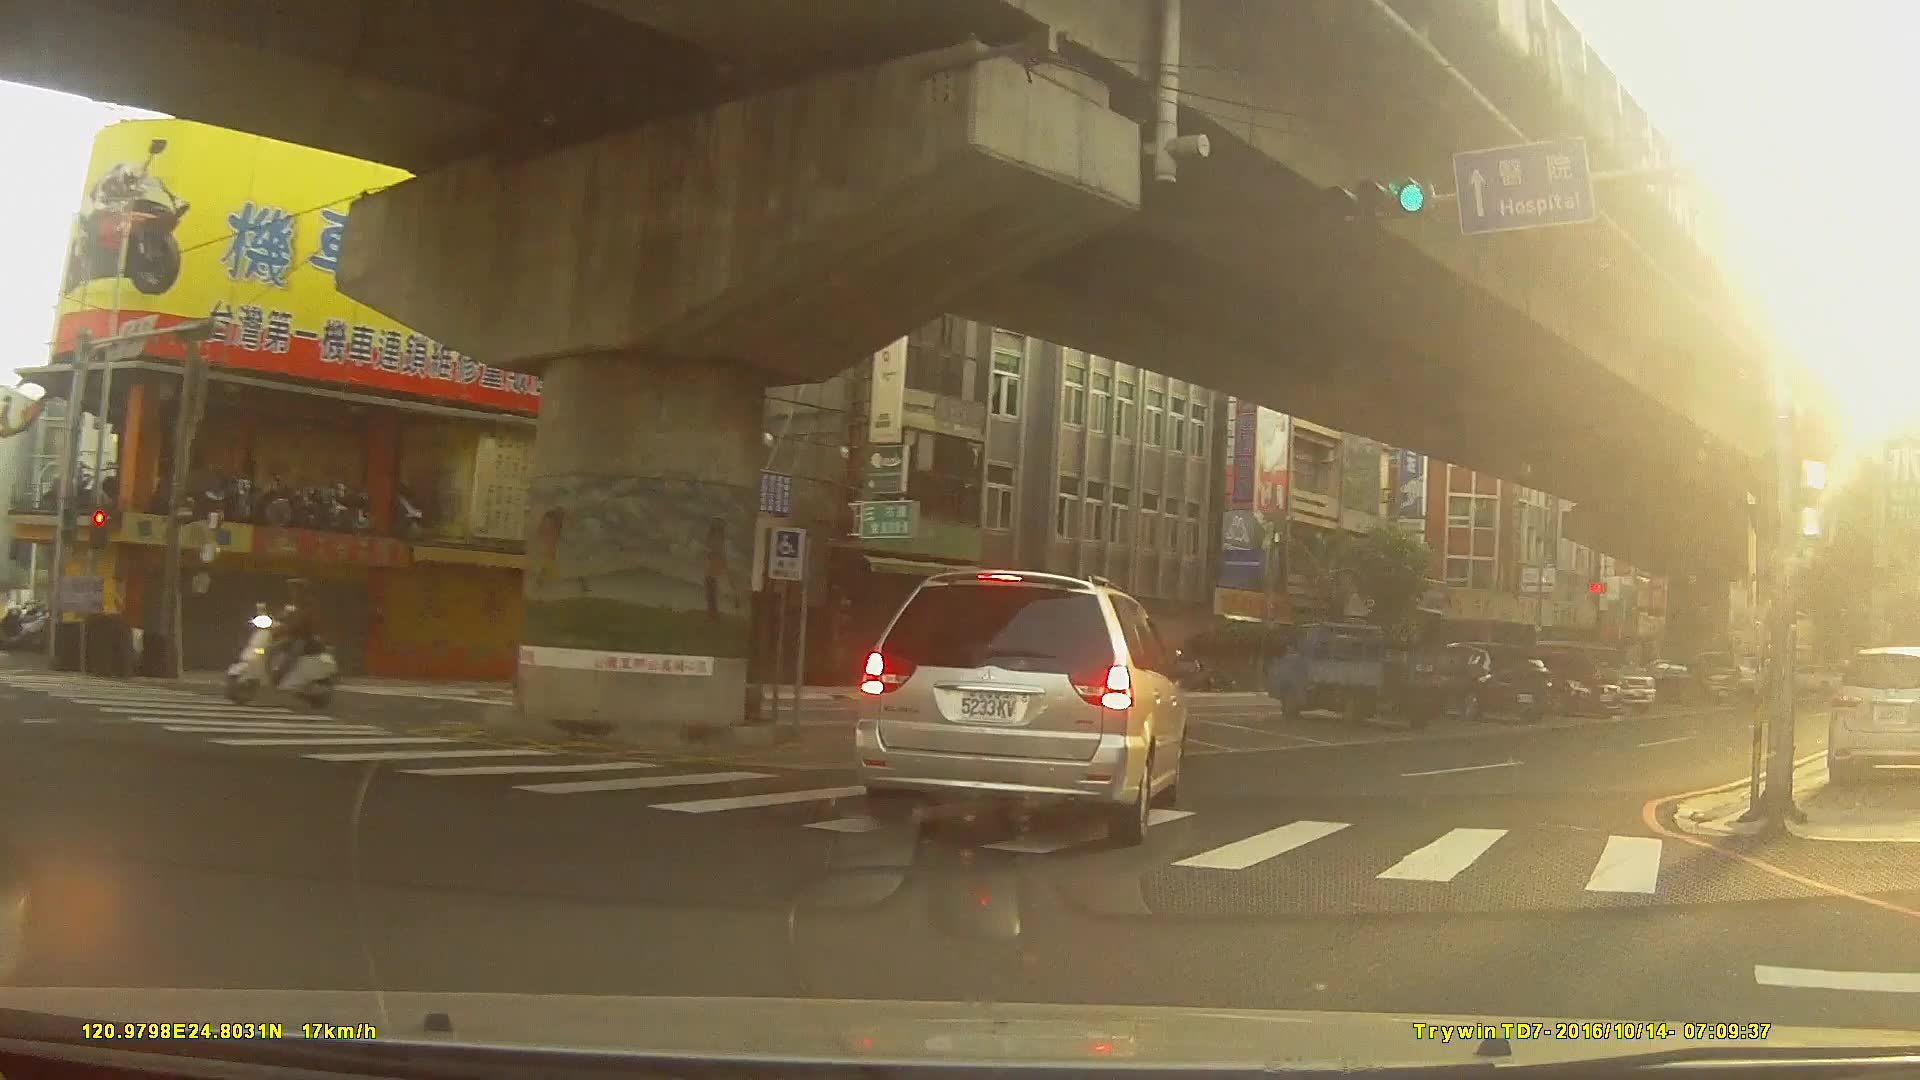rider: (230, 575, 346, 707)
vehicle: (851, 564, 1189, 846), (1261, 619, 1465, 729), (1826, 639, 1920, 782), (1418, 635, 1554, 718), (1501, 649, 1625, 717), (1623, 656, 1705, 700)
